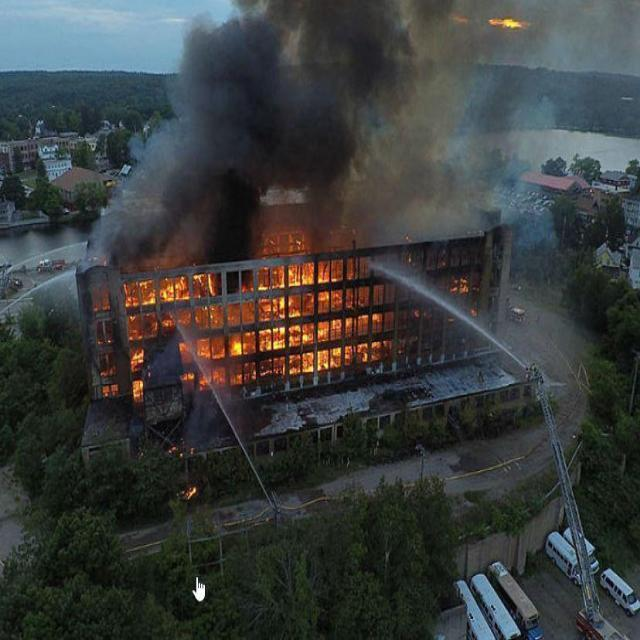Fire: (113, 265, 393, 371)
Smoke: (191, 48, 449, 208)
